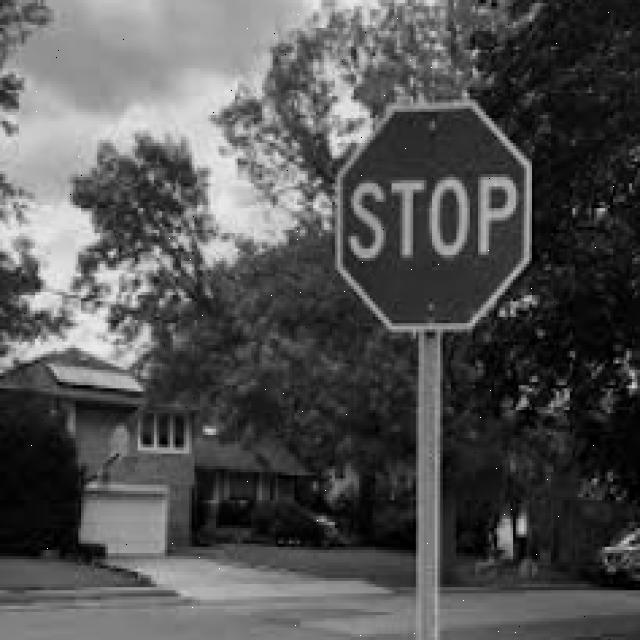Stop-signs: (338, 100, 534, 329)
